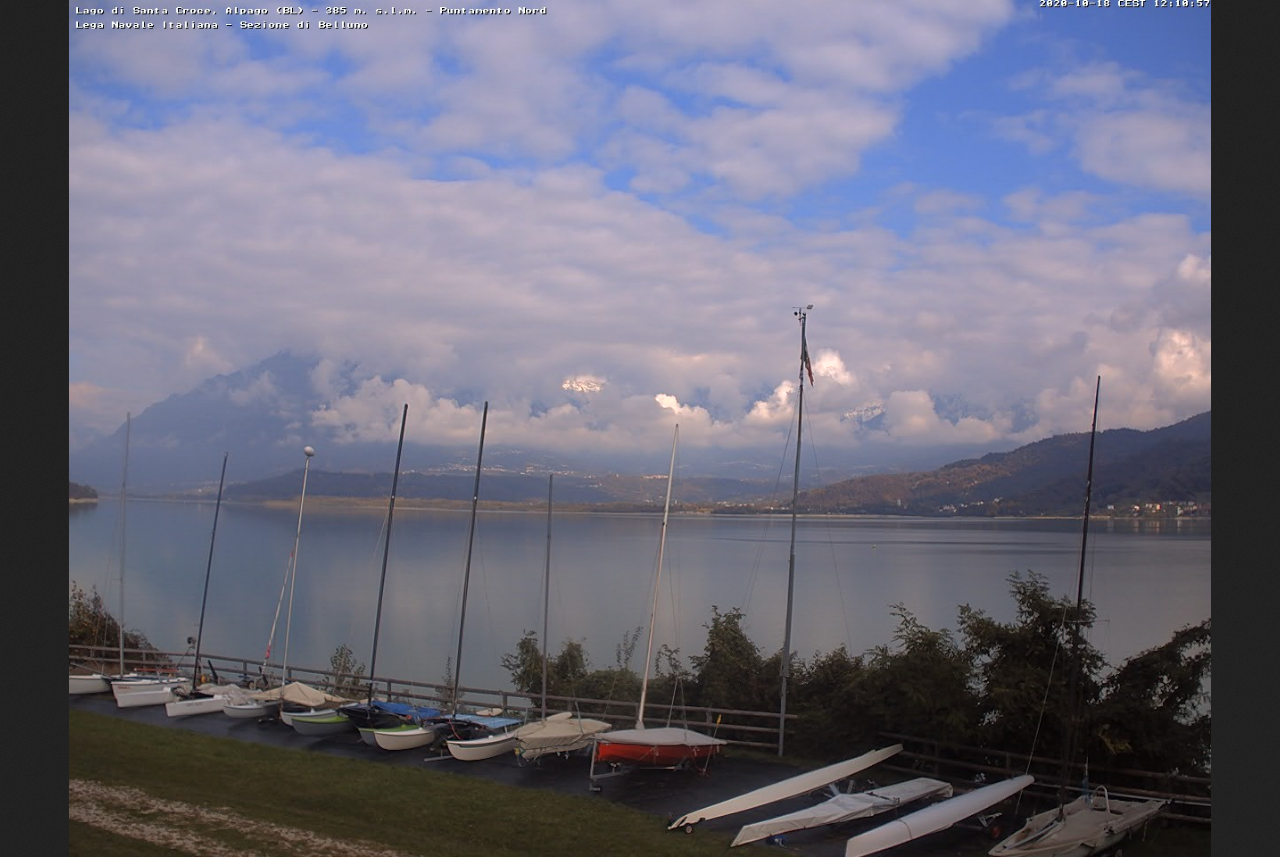no: (794, 311, 822, 392)
